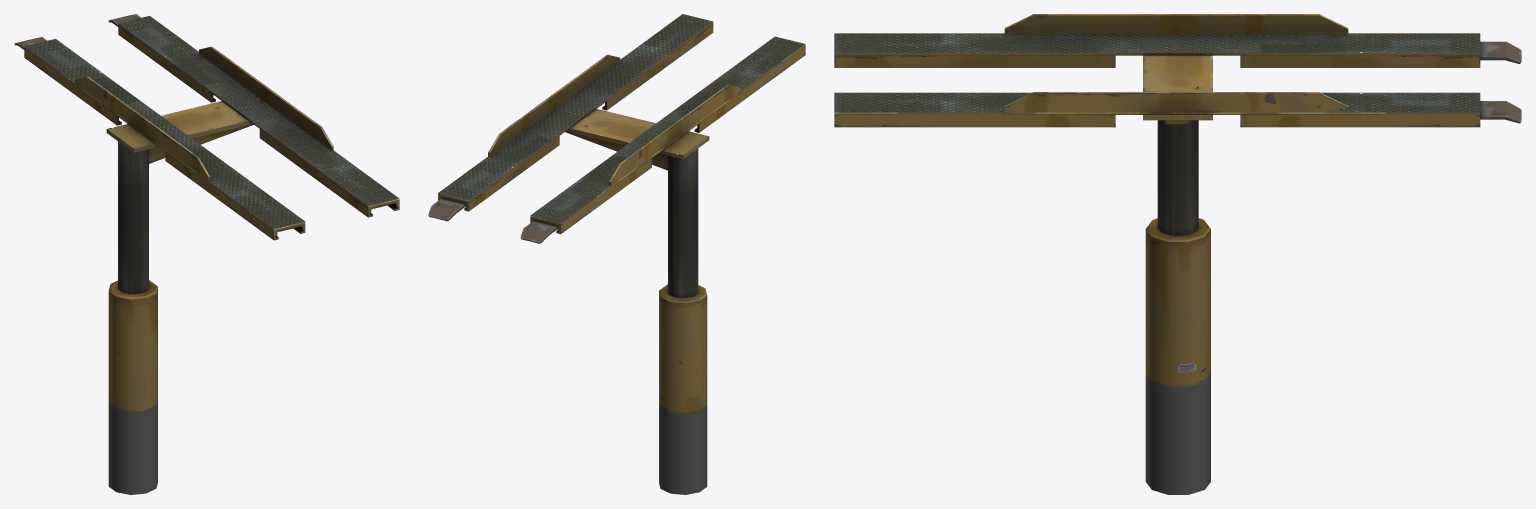
3 renders of one model, left to right at view 1: azimuth 30°, elevation 25°; view 2: azimuth 150°, elevation 25°; view 3: azimuth 270°, elevation 25°, orthographic. The views are drawn at different scales.
Visible parts, largest first — view 1: body0_model0_lod0_mesh0; view 2: body0_model0_lod0_mesh0; view 3: body0_model0_lod0_mesh0.
Part boxes in pixels (<box>): body0_model0_lod0_mesh0: <box>14,14,399,494</box>; body0_model0_lod0_mesh0: <box>428,14,805,494</box>; body0_model0_lod0_mesh0: <box>834,14,1521,494</box>.
Bounding box in the file's own units: 118 × 267 × 352.
Materials: 1 (1 with a texture image).
